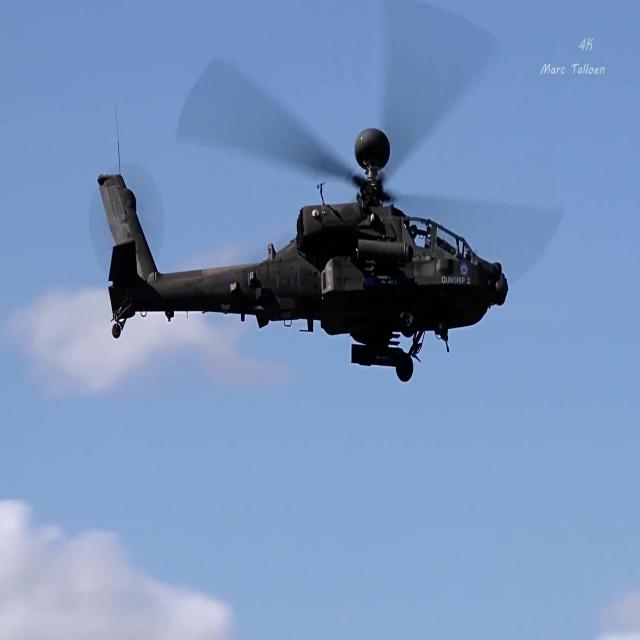MIL_HELO: (85, 1, 562, 384)
